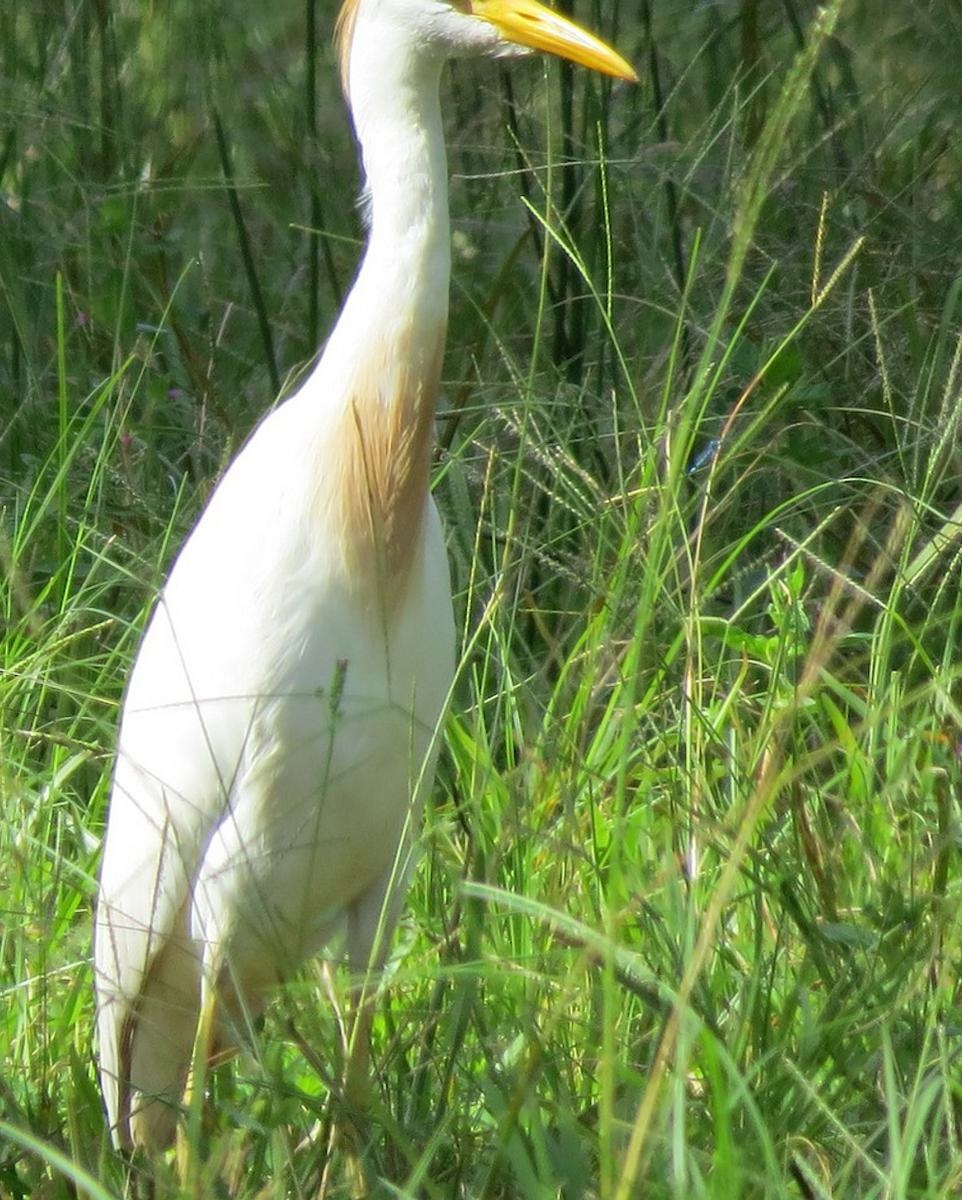egret: (61, 1, 621, 1154)
